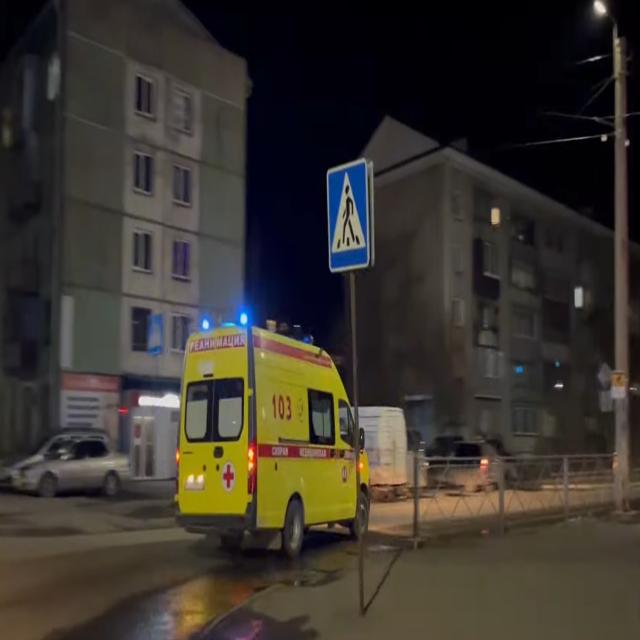intensive care unit: (176, 315, 372, 558)
non emergency car: (10, 428, 131, 502), (450, 439, 506, 498)
